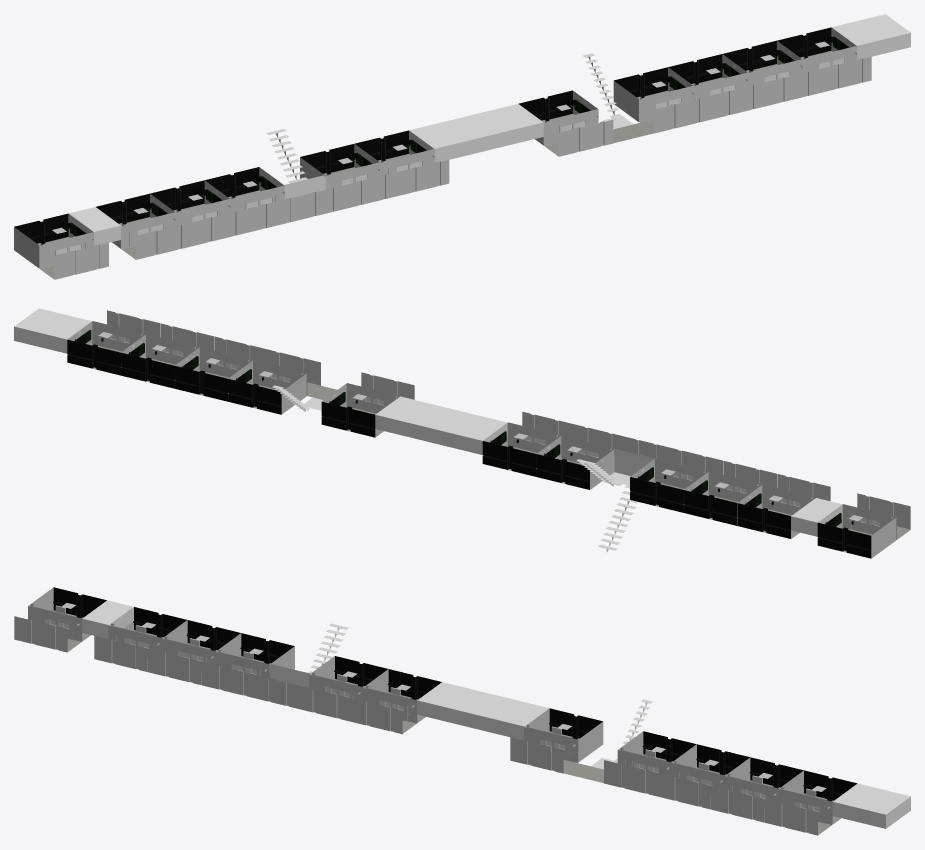
Rendered from 4cmd.FBX.
The picture shows the model from 3 angles, top to bottom: view 1: azimuth 30°, elevation 25°; view 2: azimuth 150°, elevation 25°; view 3: azimuth 330°, elevation 25°; orthographic projection.
Visible parts, largest first — view 1: Box225, Object076, Object001, Object112, Object013, Object040, Object103, Object022, Object049, Object085, Object031, Object094 (+29 smaller); view 2: Box225, Object008, Object080, Object053, Object026, Object098, Object107, Object116, Object035, Object017, Object089, Object044 (+30 smaller); view 3: Box225, Box224, Object031, Box046, Object040, Object103, Object013, Object076, Object094, Object112, Object001, Object049 (+29 smaller).
Part boxes in pixels (<box>): Box225: <box>409,104,543,162</box>; Object076: <box>558,120,613,156</box>; Object001: <box>54,243,108,279</box>; Object112: <box>817,56,871,93</box>; Object013: <box>136,223,190,259</box>; Object040: <box>340,173,394,209</box>; Object103: <box>763,70,817,106</box>; Object022: <box>190,209,244,246</box>; Object049: <box>395,160,449,196</box>; Object085: <box>654,96,708,133</box>; Object031: <box>245,196,299,233</box>; Object094: <box>708,83,762,120</box>; Box225: <box>375,396,507,454</box>; Object008: <box>817,522,871,558</box>; Object080: <box>321,401,375,437</box>; Object053: <box>482,441,536,476</box>; Object026: <box>683,490,737,525</box>; Object098: <box>174,366,228,401</box>; Object107: <box>121,352,174,388</box>; Object116: <box>67,339,120,375</box>; Object035: <box>630,477,683,512</box>; Object017: <box>737,503,790,538</box>; Object089: <box>228,379,281,414</box>; Object044: <box>536,454,589,489</box>; Box225: <box>417,682,549,740</box>; Box224: <box>859,790,910,828</box>; Object031: <box>201,662,255,698</box>; Box046: <box>82,600,133,638</box>; Object040: <box>295,685,348,721</box>; Object103: <box>711,786,764,822</box>; Object013: <box>94,635,147,671</box>; Object076: <box>510,737,563,773</box>; Object094: <box>657,773,710,809</box>; Object112: <box>764,799,817,835</box>; Object001: <box>14,616,67,652</box>; Object049: <box>349,698,402,734</box>.
Bounding box in the file's own units: 13114 × 1230 × 1453.
